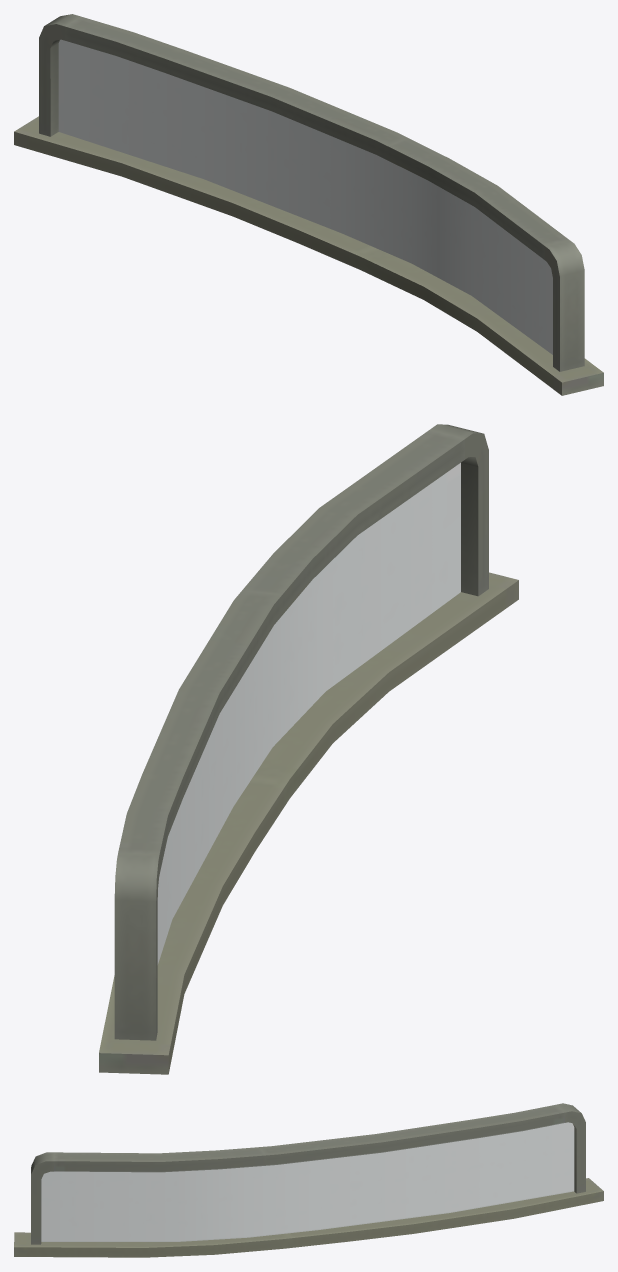
Rendered from pref_sm_city_riverwall06_snow_lv3.fbx.
3 views of the same model, one above another, from view 1: azimuth 30°, elevation 25°; view 2: azimuth 150°, elevation 25°; view 3: azimuth 270°, elevation 25° (orthographic). The views are drawn at different scales.
Visible parts, largest first — view 1: pref_sm_city_riverwall06_snow_lv3; view 2: pref_sm_city_riverwall06_snow_lv3; view 3: pref_sm_city_riverwall06_snow_lv3.
Boxes of the visible parts, <box> form: pref_sm_city_riverwall06_snow_lv3: <box>14,14,603,395</box>; pref_sm_city_riverwall06_snow_lv3: <box>99,424,518,1074</box>; pref_sm_city_riverwall06_snow_lv3: <box>14,1103,603,1257</box>.
Bounding box in the file's own units: 2.43 × 1.51 × 8.63.
